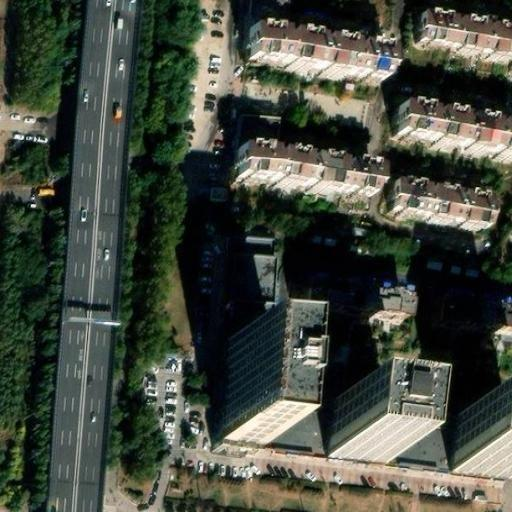building: (231, 28, 375, 76), (223, 146, 364, 189), (384, 103, 512, 150), (401, 5, 512, 48), (215, 350, 256, 457), (449, 422, 511, 487), (289, 283, 393, 321), (322, 406, 386, 467), (382, 178, 484, 216), (251, 411, 327, 461), (380, 423, 453, 475), (421, 298, 512, 334), (234, 3, 282, 33), (226, 115, 264, 150), (227, 243, 267, 264)
